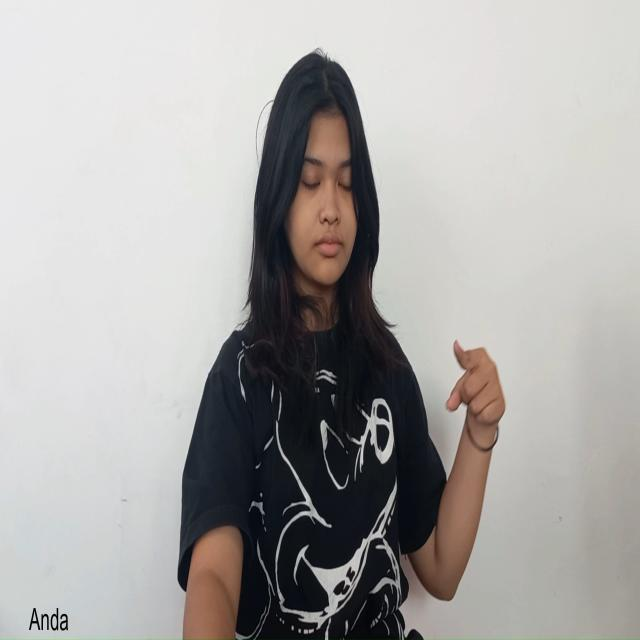Anda -BISINDO-: (446, 339, 506, 461)
